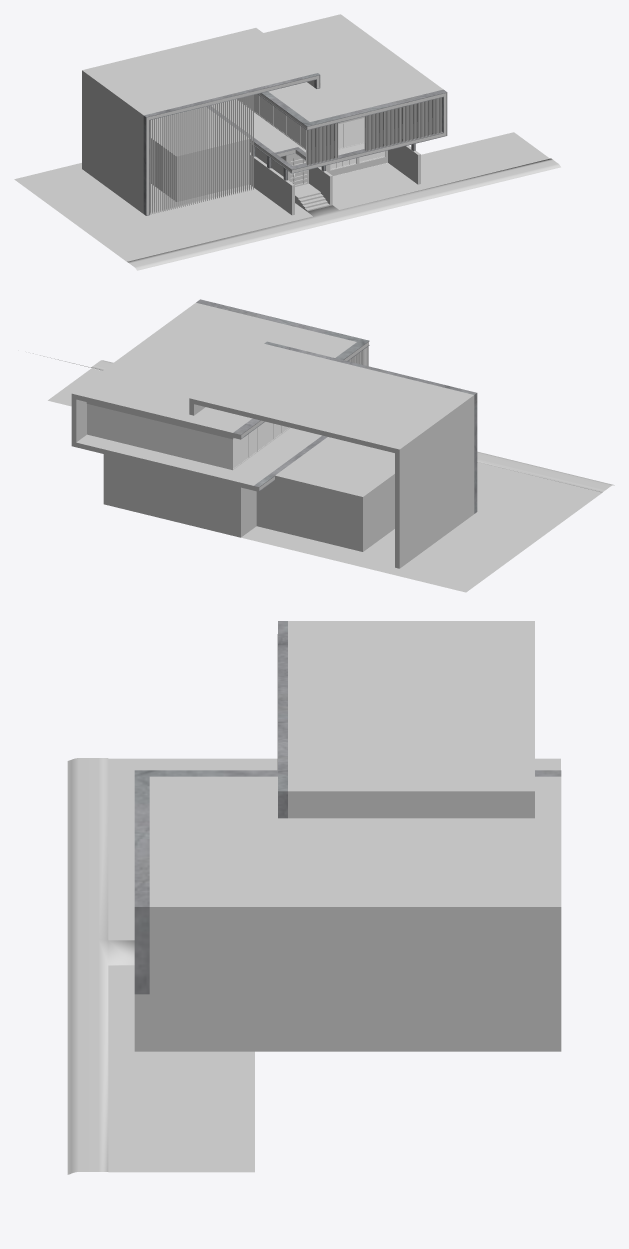
The model's file is house_construction.glb.
3 renders of one model, top to bottom at view 1: azimuth 30°, elevation 25°; view 2: azimuth 150°, elevation 25°; view 3: azimuth 270°, elevation 25°, orthographic. The views are drawn at different scales.
Visible parts, largest first — view 1: outside_bricks, mainStructure_f2_left, mainStructure_f2_right, wood_Pannels, mainStructure_1f_back, ourside_road-stairs, brick_walls, window_f2, mainStructure_f1_wallEntranceRight; view 2: mainStructure_f2_left, mainStructure_f2_right, outside_bricks, mainStructure_1f_back, mainStructure_f1, window_f2, ourside_road-stairs, mainStructure_f2_right2; view 3: mainStructure_f2_right, mainStructure_f2_left, outside_bricks, ourside_road-stairs, mainStructure_f1, brick_walls.
Boxes of the visible parts, left/top/right/bottom form: outside_bricks: left=14, top=132, right=549, bottom=261; mainStructure_f2_left: left=82, top=28, right=320, bottom=215; mainStructure_f2_right: left=207, top=14, right=447, bottom=173; wood_Pannels: left=150, top=95, right=441, bottom=214; mainStructure_1f_back: left=151, top=107, right=248, bottom=201; ourside_road-stairs: left=127, top=158, right=560, bottom=270; brick_walls: left=250, top=145, right=420, bottom=215; window_f2: left=238, top=94, right=364, bottom=149; mainStructure_f1_wallEntranceRight: left=330, top=150, right=387, bottom=175; mainStructure_f2_left: left=189, top=341, right=477, bottom=568; mainStructure_f2_right: left=71, top=299, right=369, bottom=491; outside_bricks: left=48, top=368, right=601, bottom=592; mainStructure_1f_back: left=256, top=437, right=394, bottom=551; mainStructure_f1: left=103, top=454, right=256, bottom=537; window_f2: left=87, top=404, right=290, bottom=470; ourside_road-stairs: left=33, top=353, right=614, bottom=492; mainStructure_f2_right2: left=86, top=402, right=290, bottom=470; mainStructure_f2_right: left=134, top=770, right=561, bottom=994; mainStructure_f2_left: left=278, top=621, right=534, bottom=818; outside_bricks: left=108, top=758, right=560, bottom=1172; ourside_road-stairs: left=67, top=758, right=134, bottom=1174; mainStructure_f1: left=255, top=994, right=561, bottom=1051; brick_walls: left=134, top=994, right=254, bottom=1051.
Size of the model in its own units: 37.53 by 7.35 by 16.44.
7 materials, 1 textured.
